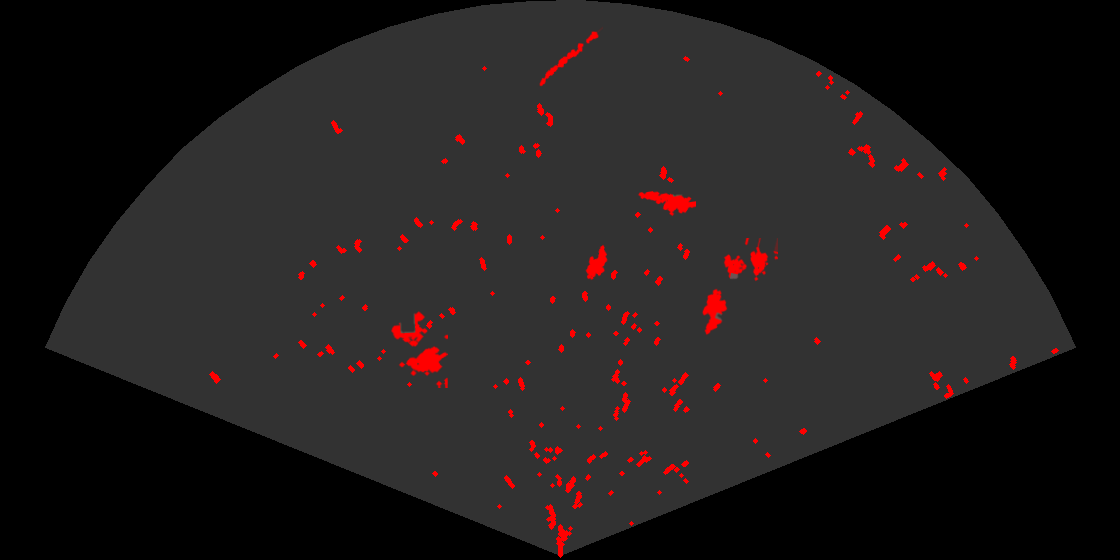AUV: (700, 287, 729, 337), (584, 243, 609, 282)
cage: (390, 310, 448, 388), (722, 238, 778, 283)
chain: (538, 25, 603, 88)
frogman: (637, 190, 696, 218)
